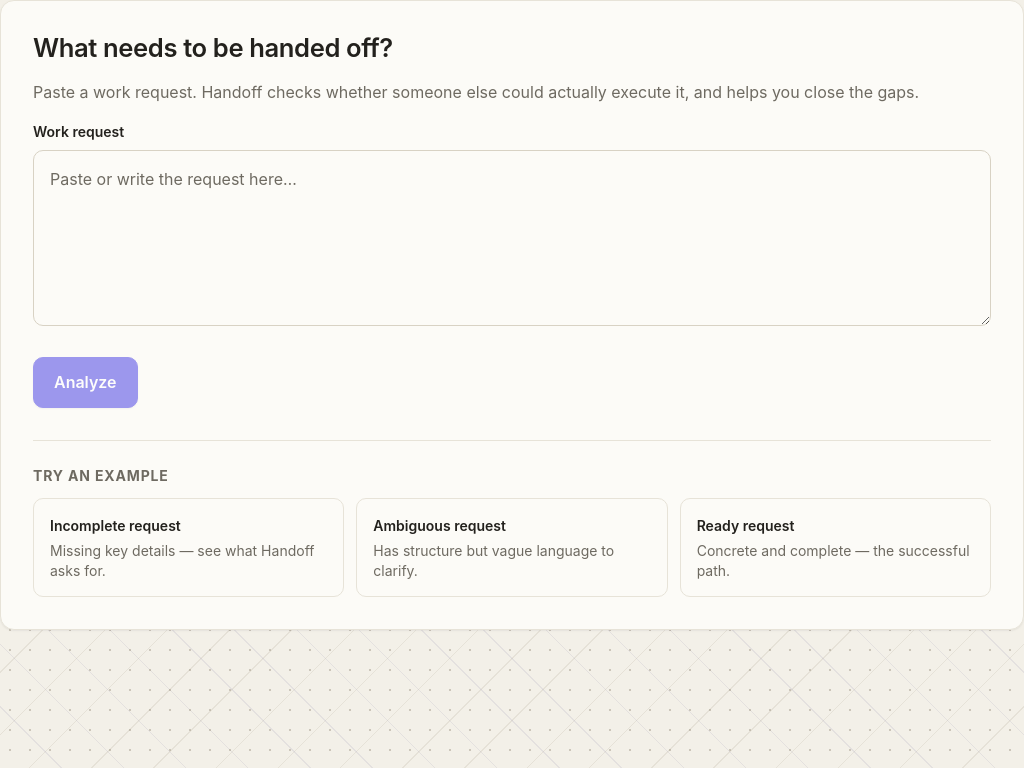
Test: InputView › shows a loading indicator while analyzing
In the text box labelled "Work request": (512, 238) [33,150,991,326], type "text"
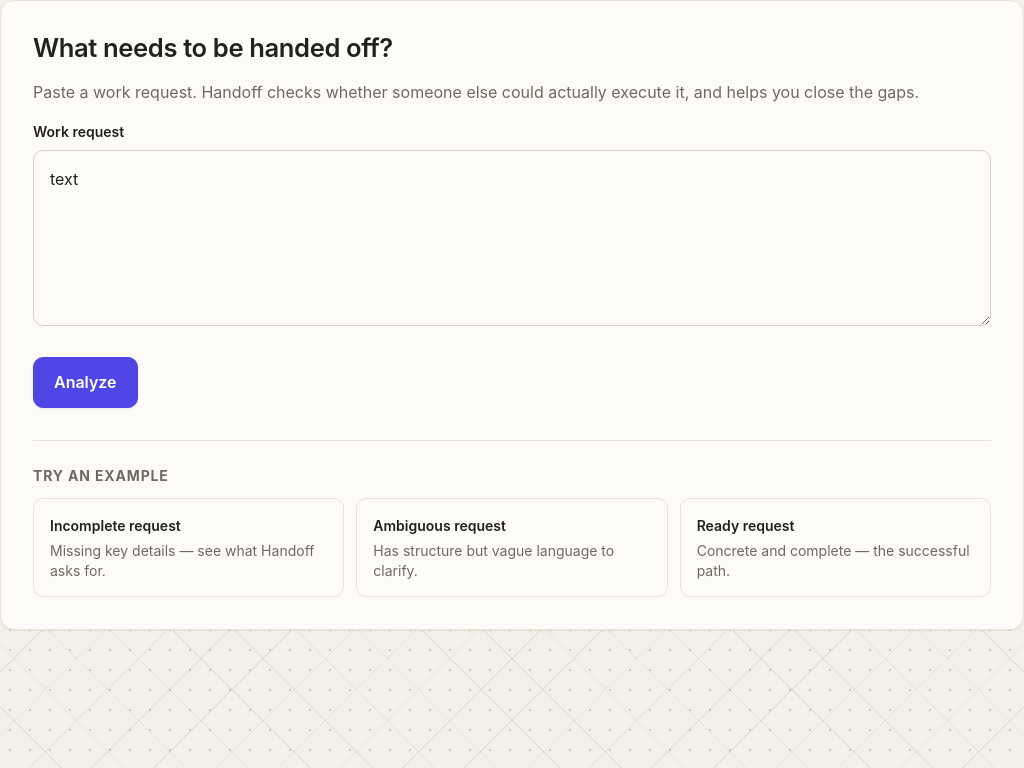
Click the button "Analyze": click(85, 382) [33,357,138,408]
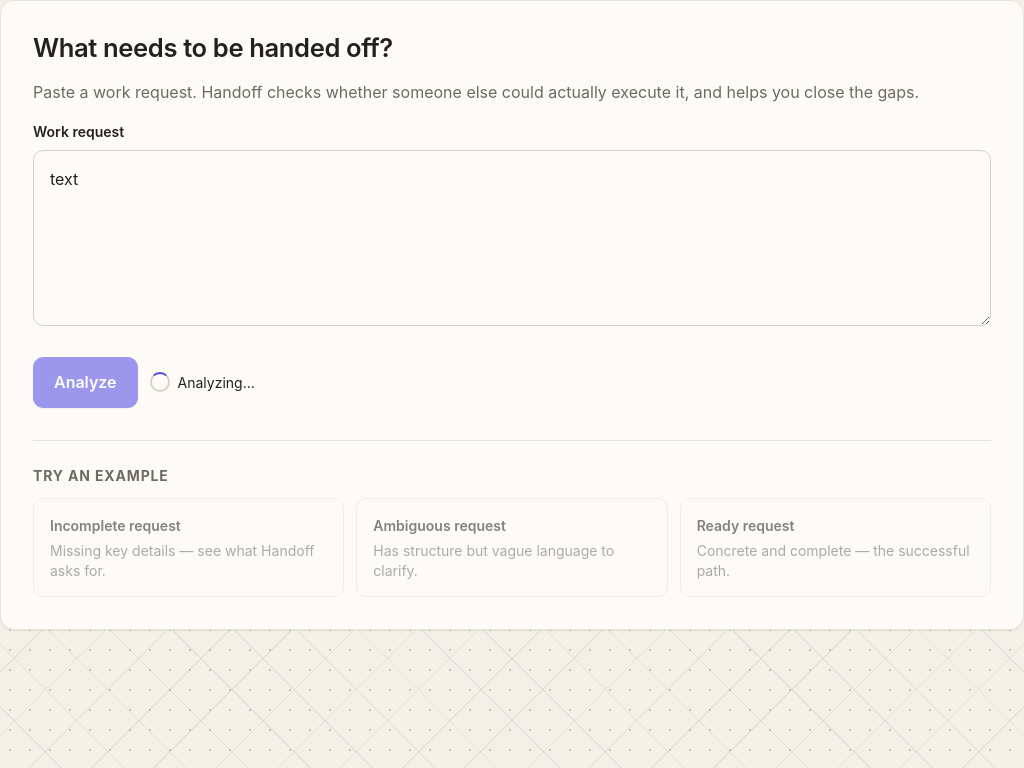
Now the text "Analyzing…" is shown, box [150,372,255,393]
